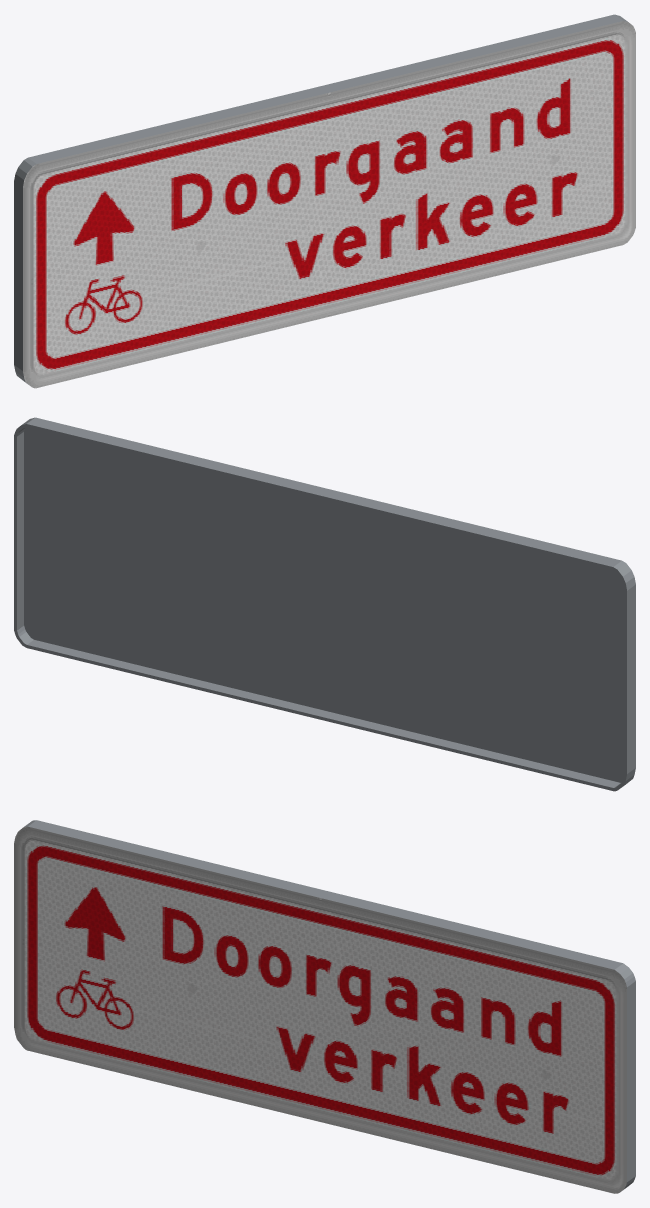
The picture shows the model from 3 angles, top to bottom: view 1: azimuth 30°, elevation 25°; view 2: azimuth 150°, elevation 25°; view 3: azimuth 330°, elevation 25°; orthographic projection.
Parts seen in each view (by area): view 1: cat_59b56abc3dc1f190; view 2: cat_59b56abc3dc1f190; view 3: cat_59b56abc3dc1f190.
Part boxes in pixels (x1,y1,x2,y2): cat_59b56abc3dc1f190: (14,14,635,388); cat_59b56abc3dc1f190: (14,417,635,791); cat_59b56abc3dc1f190: (14,820,635,1193).
Size of the model in its own units: 0.6 by 0.015 by 0.2095.
Materials: 2 (1 with a texture image).
